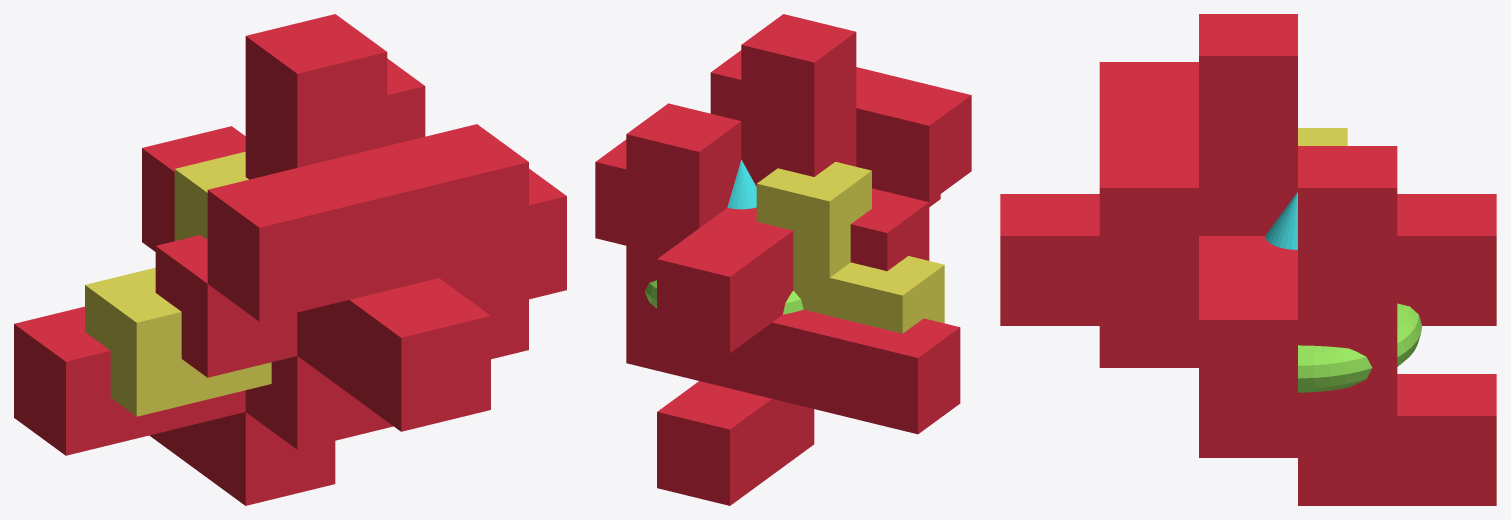
3 views of the same model, side by side, from view 1: azimuth 30°, elevation 25°; view 2: azimuth 150°, elevation 25°; view 3: azimuth 270°, elevation 25° (orthographic). The views are drawn at different scales.
Parts seen in each view (by area): view 1: Random, Cube; view 2: Random, Cube, Cone, Torus; view 3: Random, Torus, Cone, Cube.
Part boxes in pixels (box(x1,y1,x2,y2)): Random: box(14, 14, 566, 505); Cube: box(85, 151, 271, 416); Random: box(595, 14, 971, 505); Cube: box(756, 162, 944, 333); Cone: box(727, 160, 756, 209); Torus: box(644, 280, 803, 314); Random: box(1000, 14, 1496, 505); Torus: box(1298, 303, 1422, 392); Cone: box(1265, 191, 1297, 249); Cube: box(1298, 128, 1347, 145).
Size of the model in its own units: 500 by 500 by 500.
